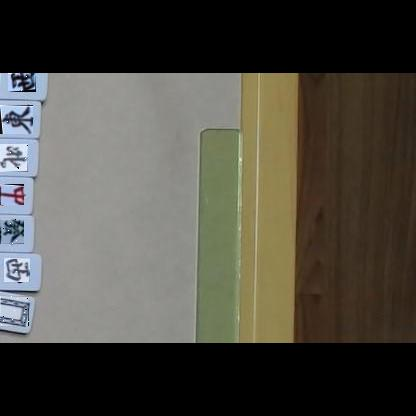1z: (0, 105, 33, 134)
3z: (4, 258, 30, 282), (8, 73, 36, 92)
4z: (1, 144, 29, 172)
5z: (0, 296, 29, 326)
6z: (0, 219, 24, 244)
7z: (0, 184, 24, 205)
